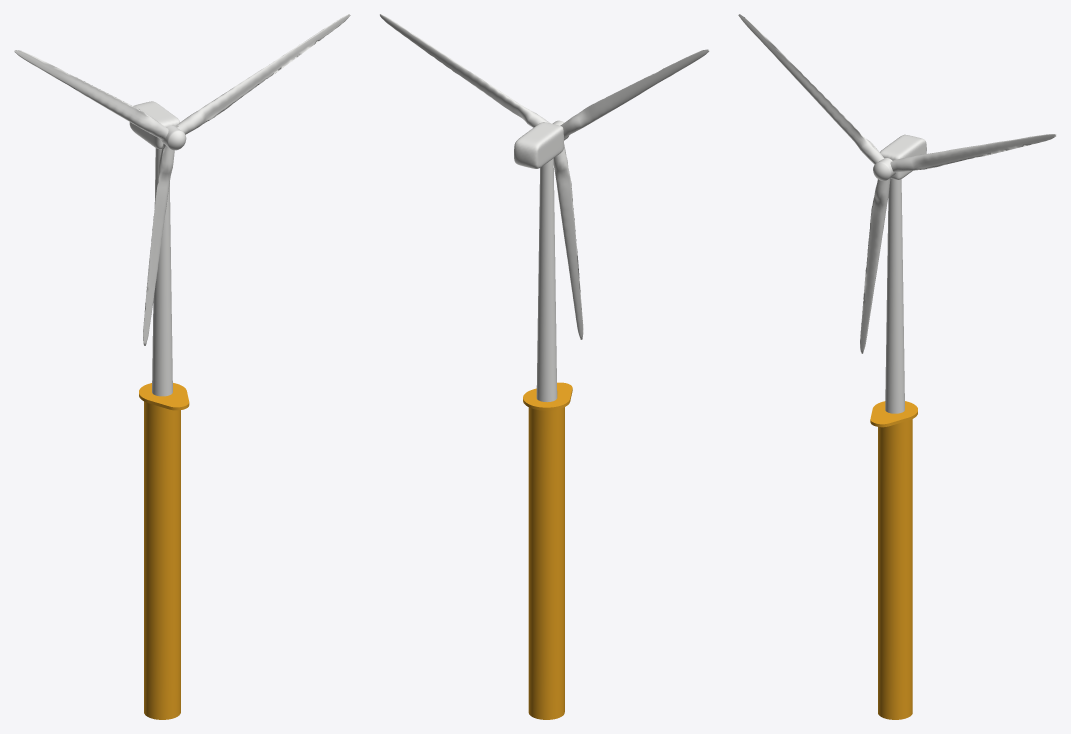
The model's file is turbine.glb.
The picture shows the model from 3 angles, left to right: view 1: azimuth 30°, elevation 25°; view 2: azimuth 150°, elevation 25°; view 3: azimuth 330°, elevation 25°; orthographic projection. The views are drawn at different scales.
Visible parts, largest first — view 1: Base, Blades.001, Mast, Cube.1_remesh, Extrude; view 2: Base, Blades.001, Mast, Cube.1_remesh, Extrude; view 3: Base, Blades.001, Mast, Cube.1_remesh, Extrude.
Part boxes in pixels (x1,y1,x2,y2): Base: [144, 401, 180, 719]; Blades.001: [14, 14, 350, 345]; Mast: [152, 148, 172, 396]; Cube.1_remesh: [129, 101, 179, 149]; Extrude: [139, 383, 189, 410]; Base: [528, 407, 564, 719]; Blades.001: [380, 14, 709, 339]; Mast: [536, 158, 557, 402]; Cube.1_remesh: [514, 122, 563, 168]; Extrude: [523, 382, 572, 410]; Base: [878, 419, 912, 719]; Blades.001: [738, 14, 1056, 353]; Mast: [885, 178, 904, 413]; Cube.1_remesh: [880, 134, 926, 179]; Extrude: [870, 401, 917, 427].
Size of the model in its own units: 14.68 by 29.48 by 3.28.
